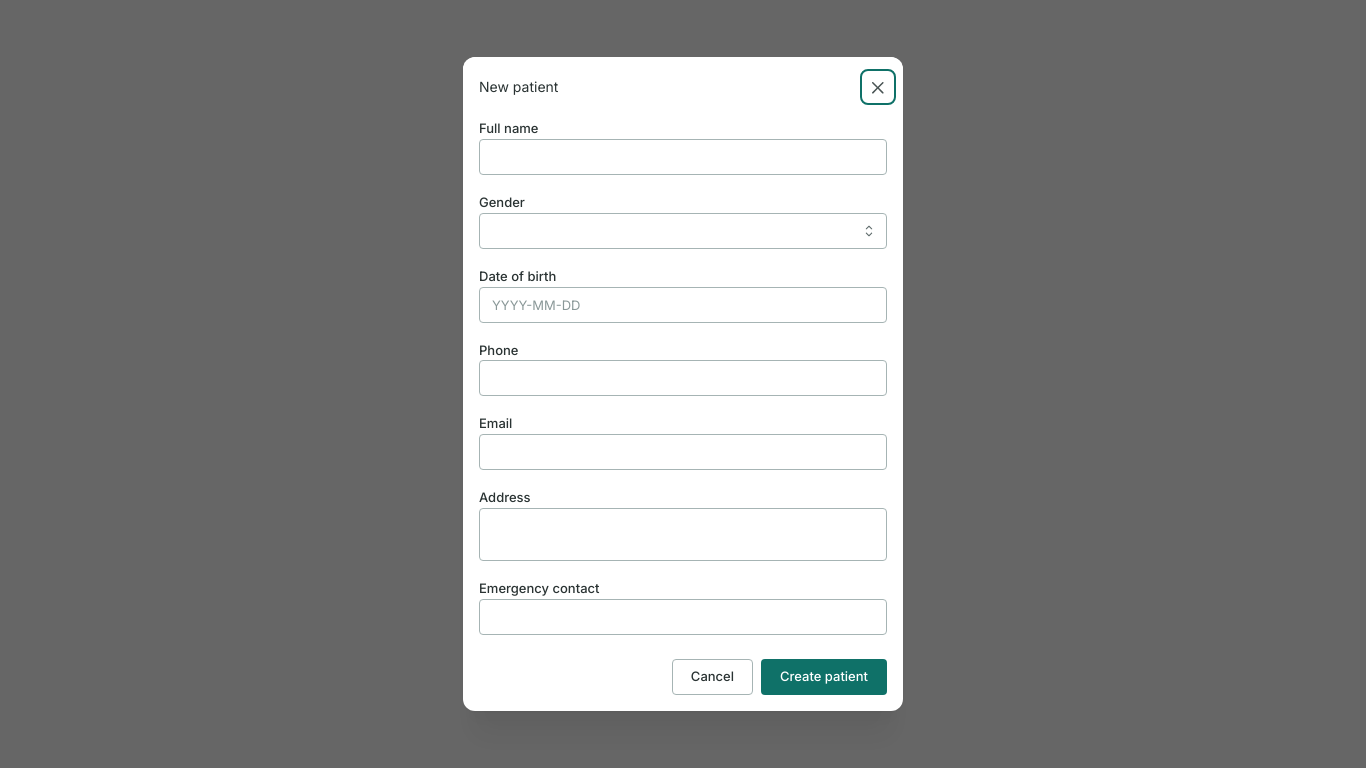
PatientFormDialog › shows the Owner enforcement copy on SUBSCRIPTION_REQUIRED and keeps input intact
The image size is (1366, 768).
Type "Asha Rao" into the field labelled "Full name".
click(683, 157); type("Asha Rao")  # box [479,139,887,175]
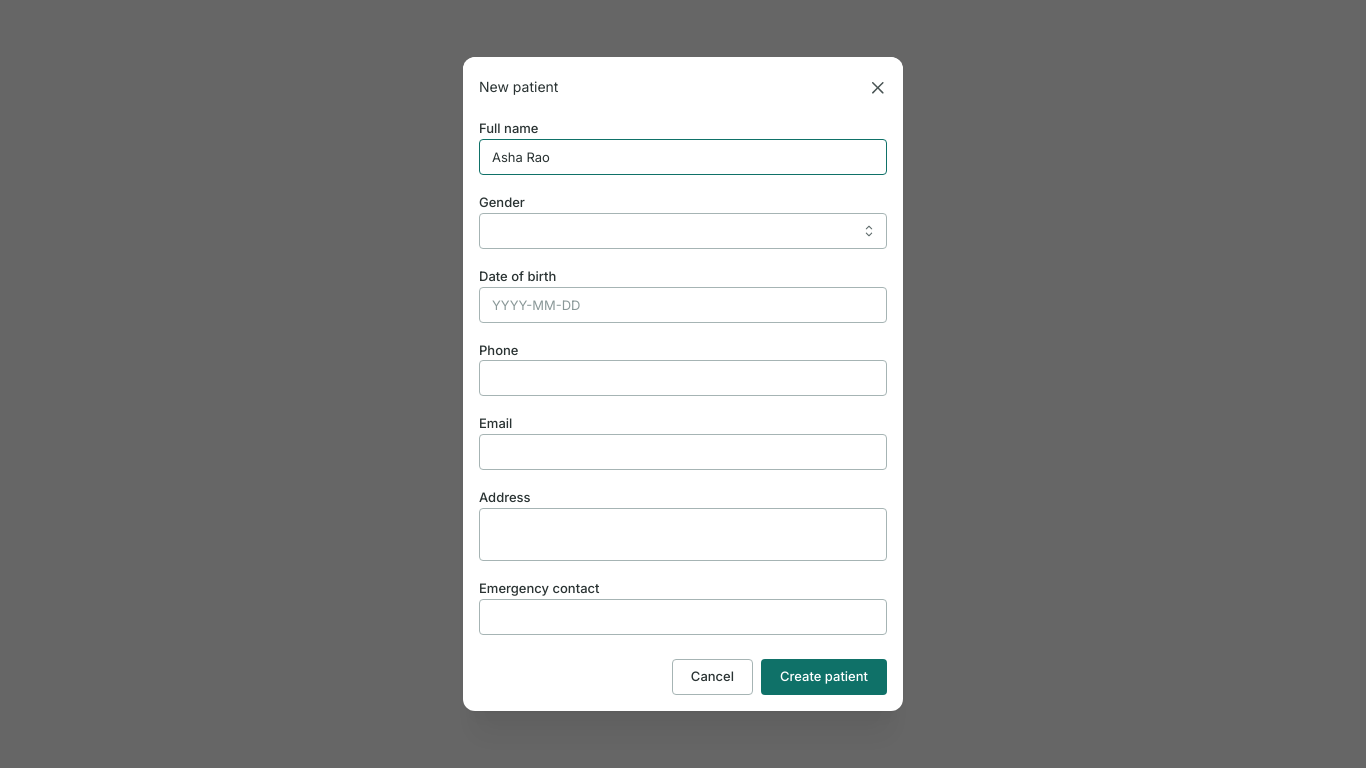
Click the button "Create patient".
click(824, 676)  # box [761,658,887,694]
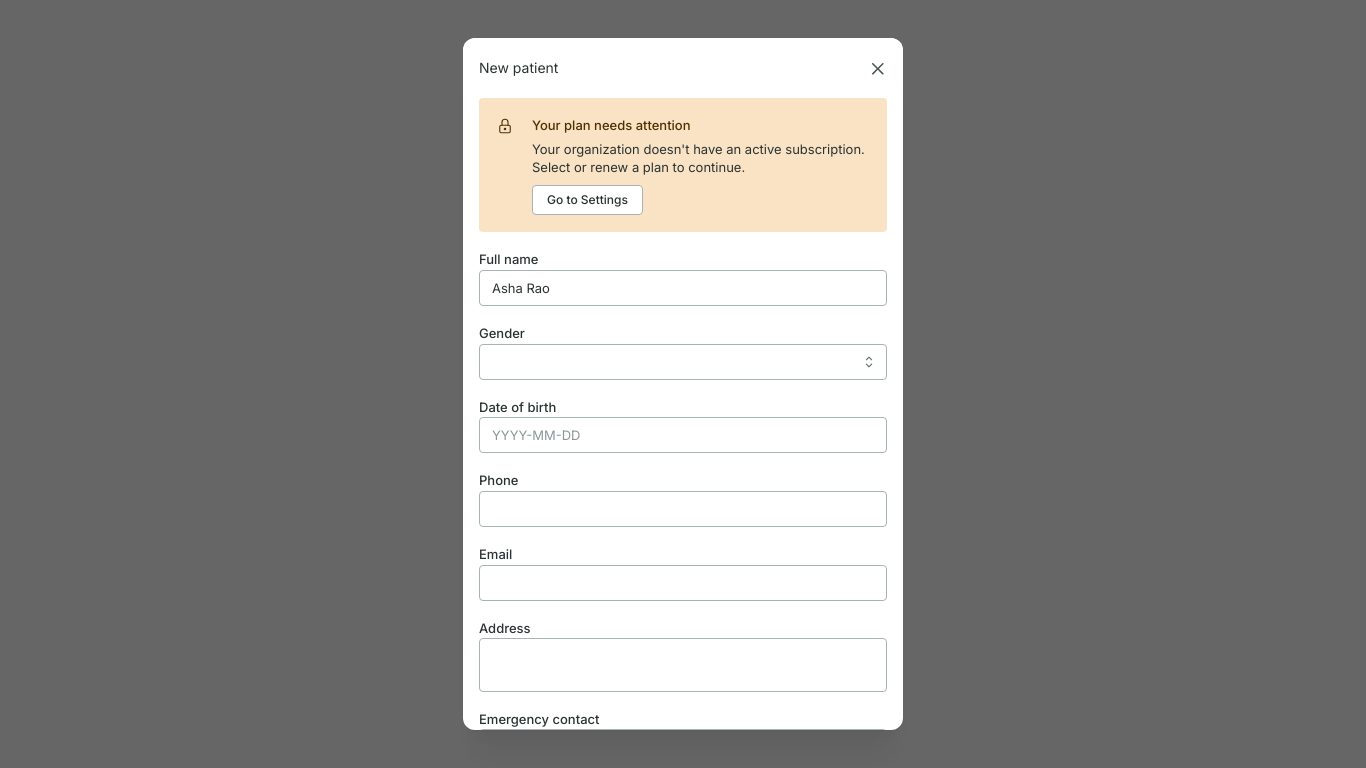
Check: the text "Your organization doesn't have an active subscription. Select or renew a plan to continue." is shown, box [532,140,865,175]
